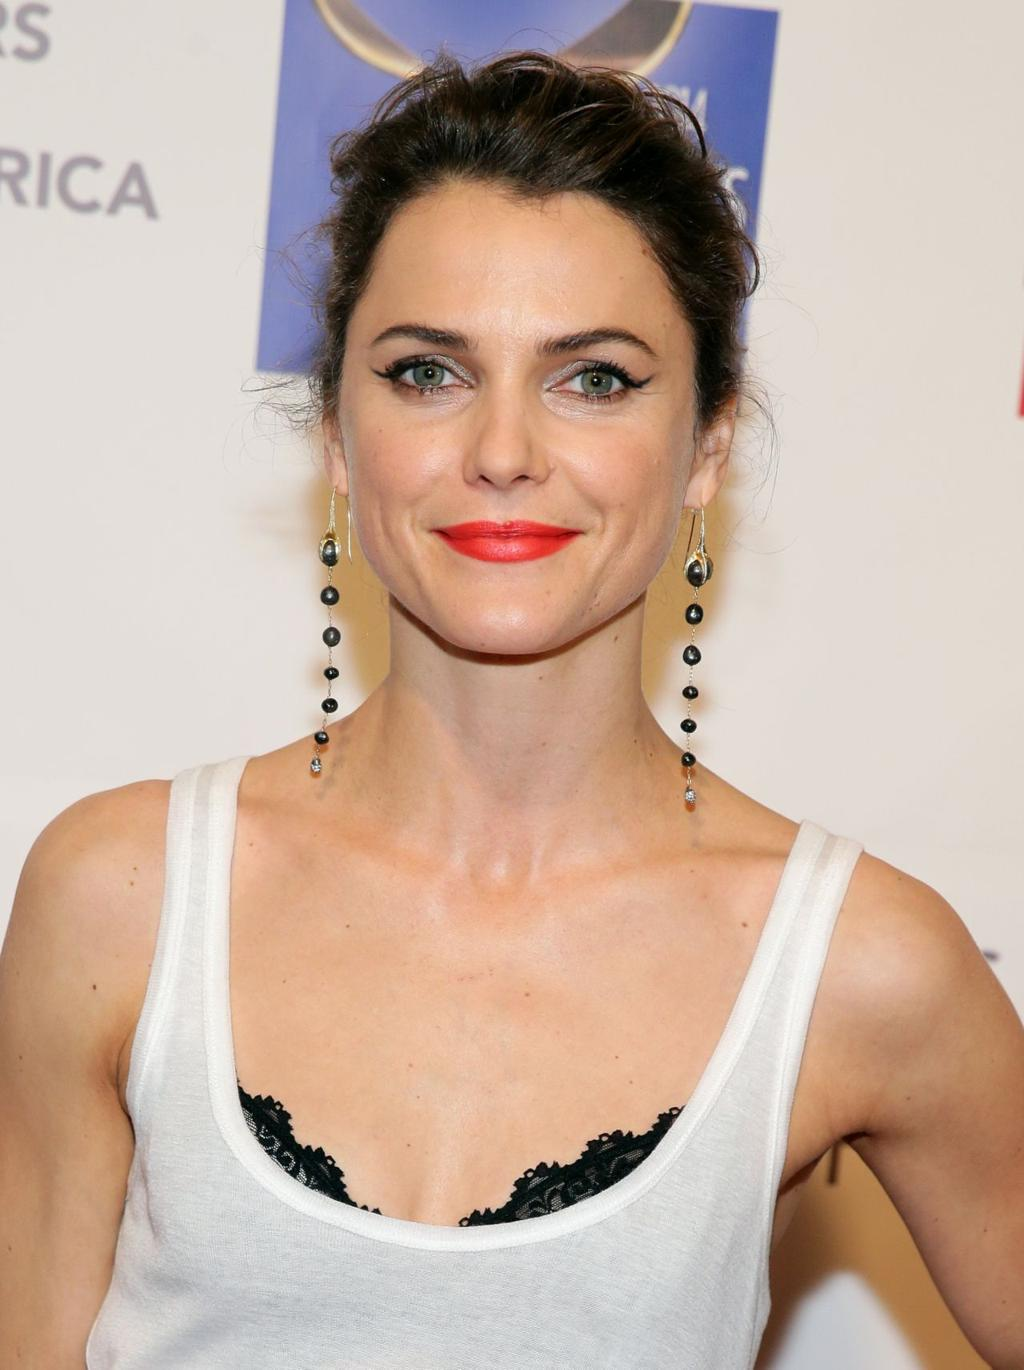face: (338, 180, 691, 653)
